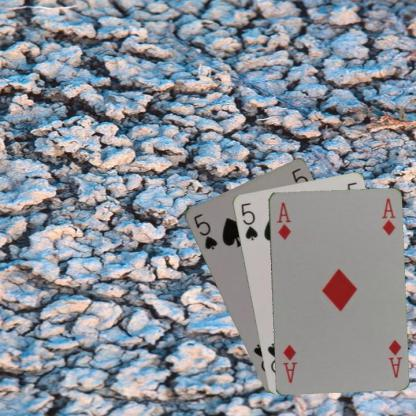5s: (191, 210, 218, 251), (238, 199, 259, 242)
Ad: (386, 336, 404, 379), (274, 199, 292, 241)
